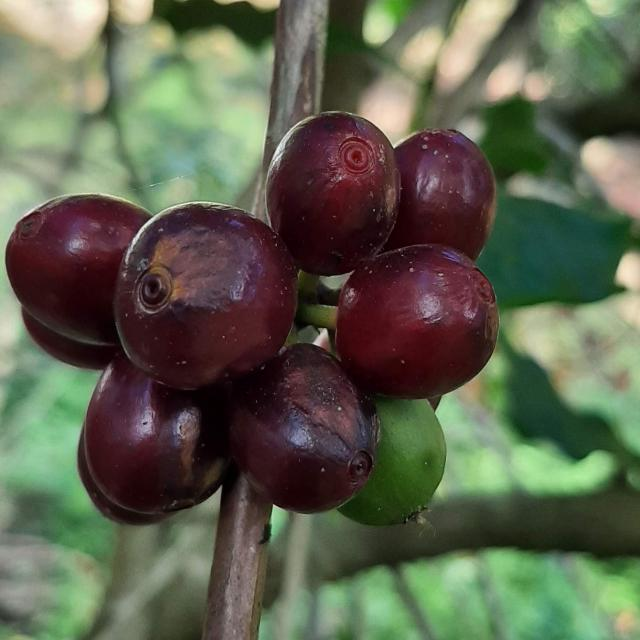green: (339, 397, 447, 527)
red: (113, 202, 297, 390), (228, 343, 380, 515), (336, 244, 499, 400), (83, 354, 230, 515), (4, 193, 151, 346), (266, 111, 401, 275), (384, 128, 497, 260), (76, 426, 176, 526), (21, 308, 119, 370)
